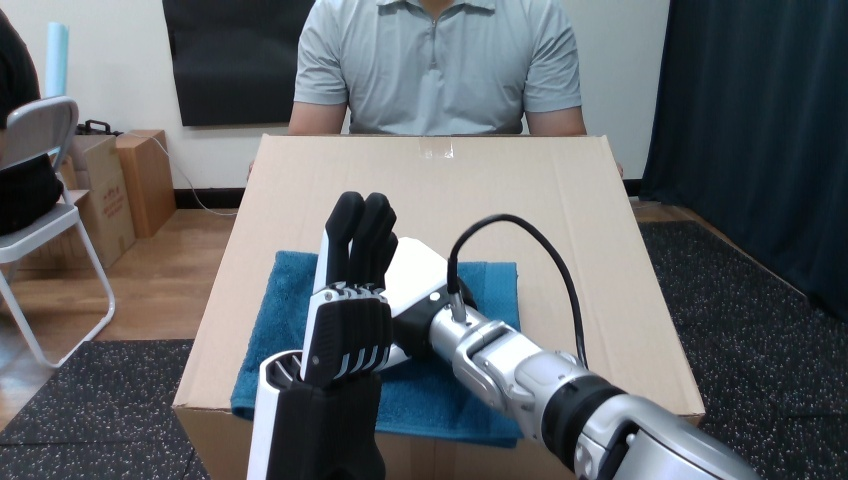left robot hand: (247, 192, 757, 479), (456, 221, 577, 356)
